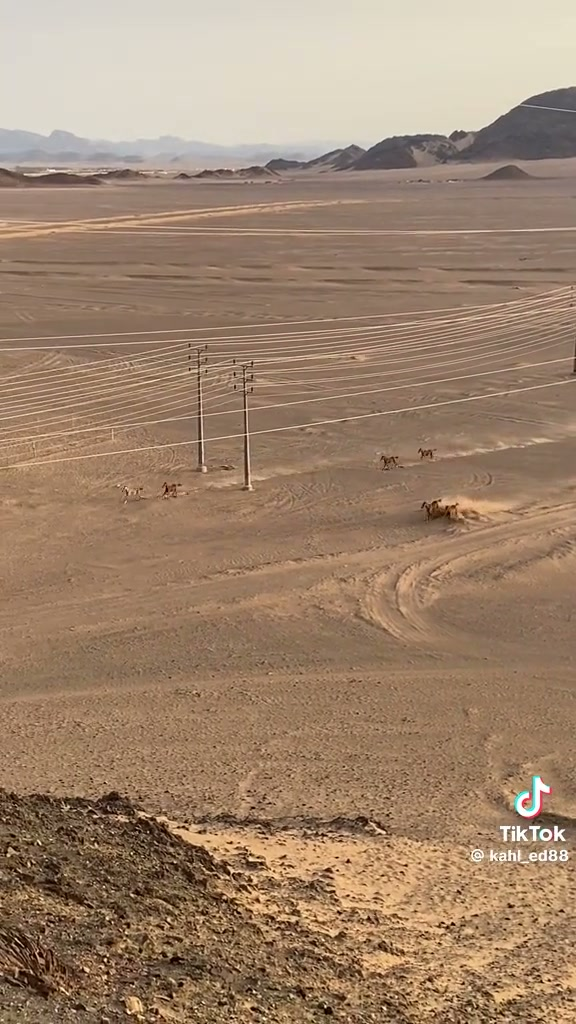animal: (421, 500, 458, 519), (421, 499, 445, 519), (117, 485, 142, 502), (161, 482, 181, 497), (379, 454, 398, 469), (445, 502, 459, 518), (418, 448, 436, 459), (220, 464, 235, 470)
vehicle_track: (360, 502, 575, 652)
